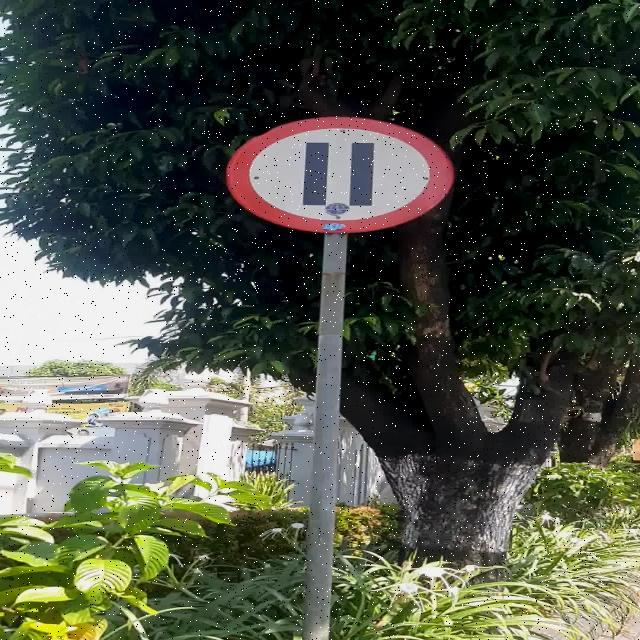Larangan Muatan - 10 ton: (226, 116, 454, 233)
